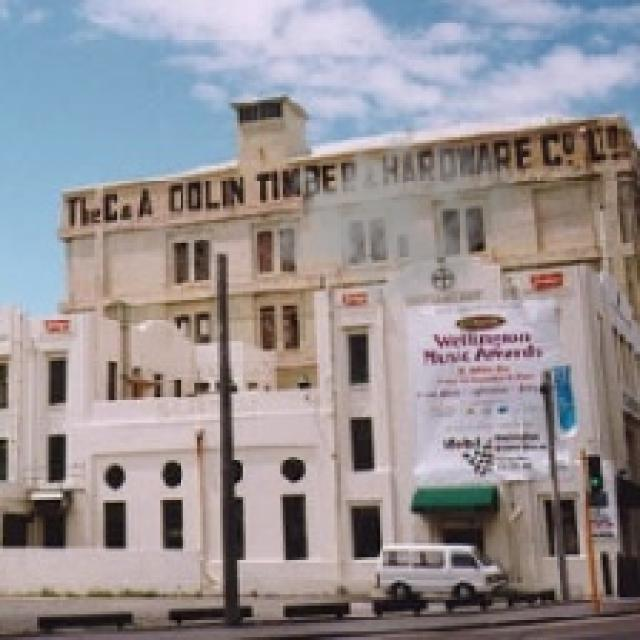Smoke: (272, 114, 522, 317)
